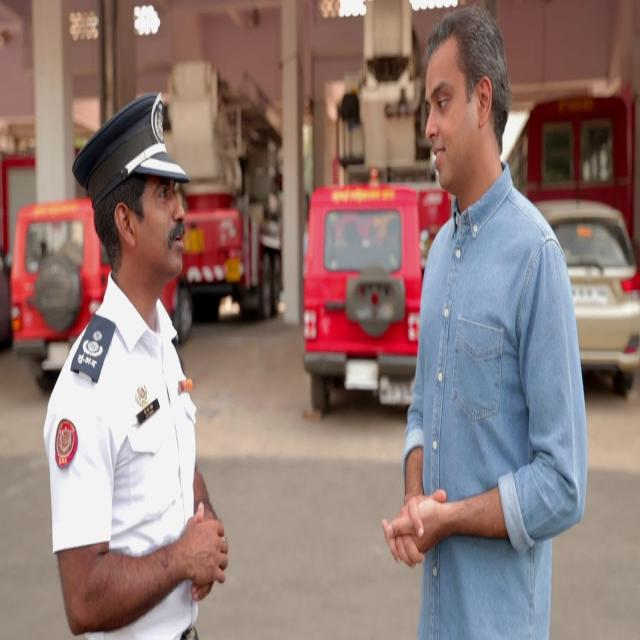car: (537, 202, 640, 394)
emergency: (304, 184, 441, 410), (11, 198, 110, 389)
